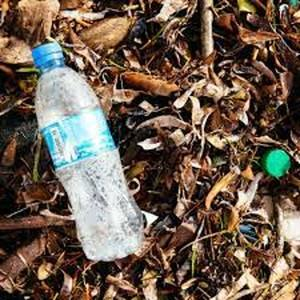Plastic: (31, 37, 145, 266)
